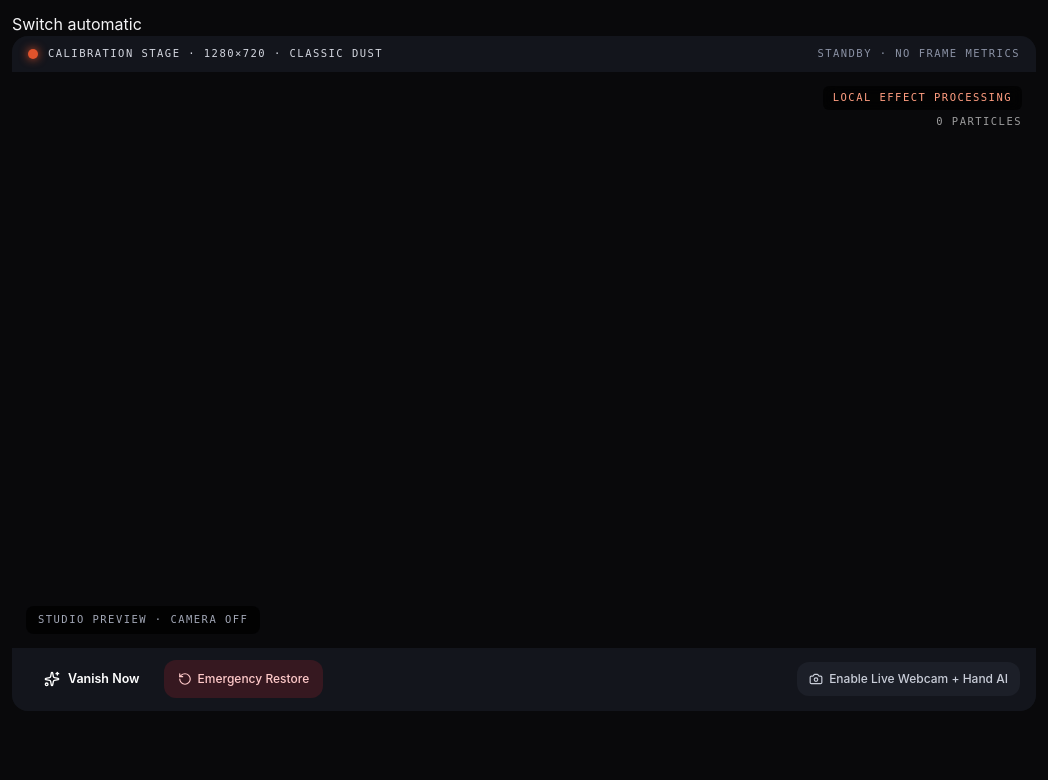
Test: Studio camera lifecycle › stops a stream whose permission request resolves after cancellation
Click the button "Enable Live Webcam + Hand AI" at (909, 679), box x1=797 y1=662 x2=1020 y2=696
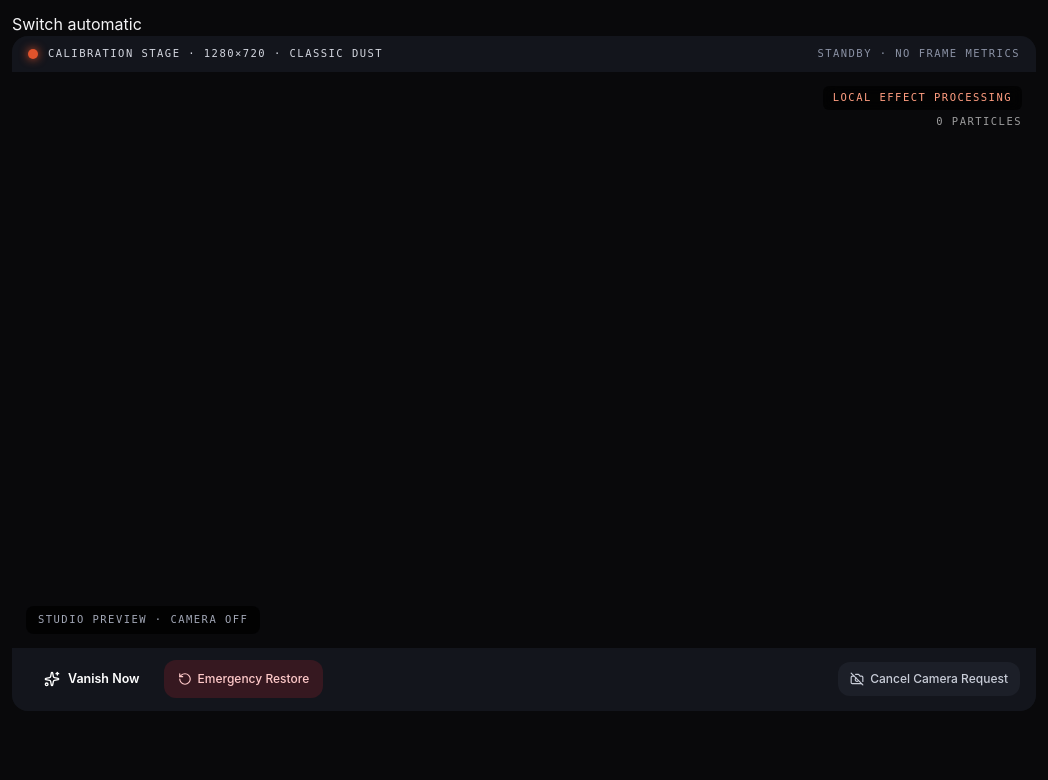
Click the button "Cancel Camera Request" at (929, 679), box x1=838 y1=662 x2=1020 y2=696
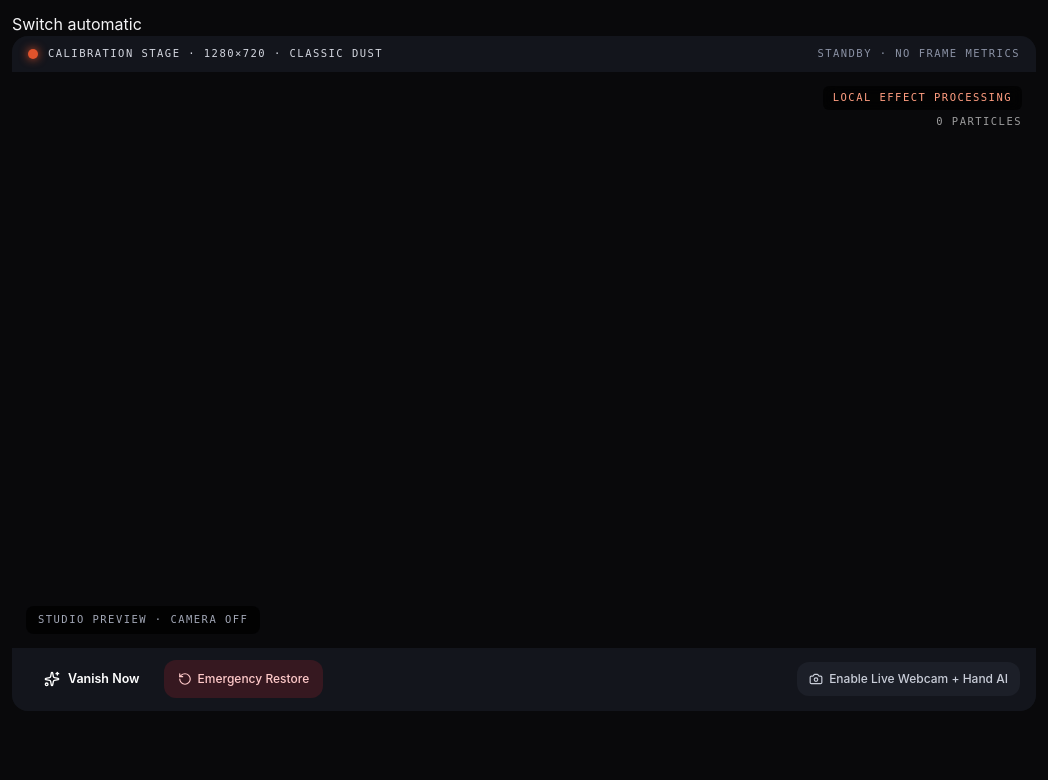
Expected: the text "Enable Live Webcam" is shown, x1=797 y1=662 x2=1020 y2=696
